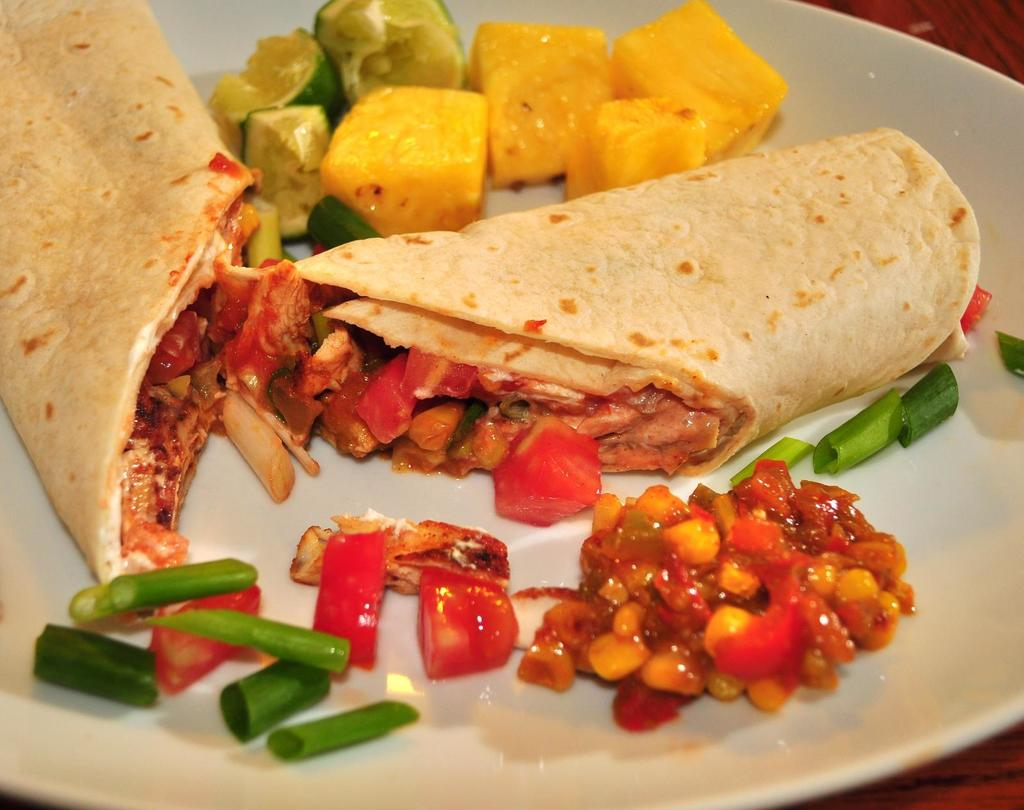taco: (0, 0, 980, 590)
